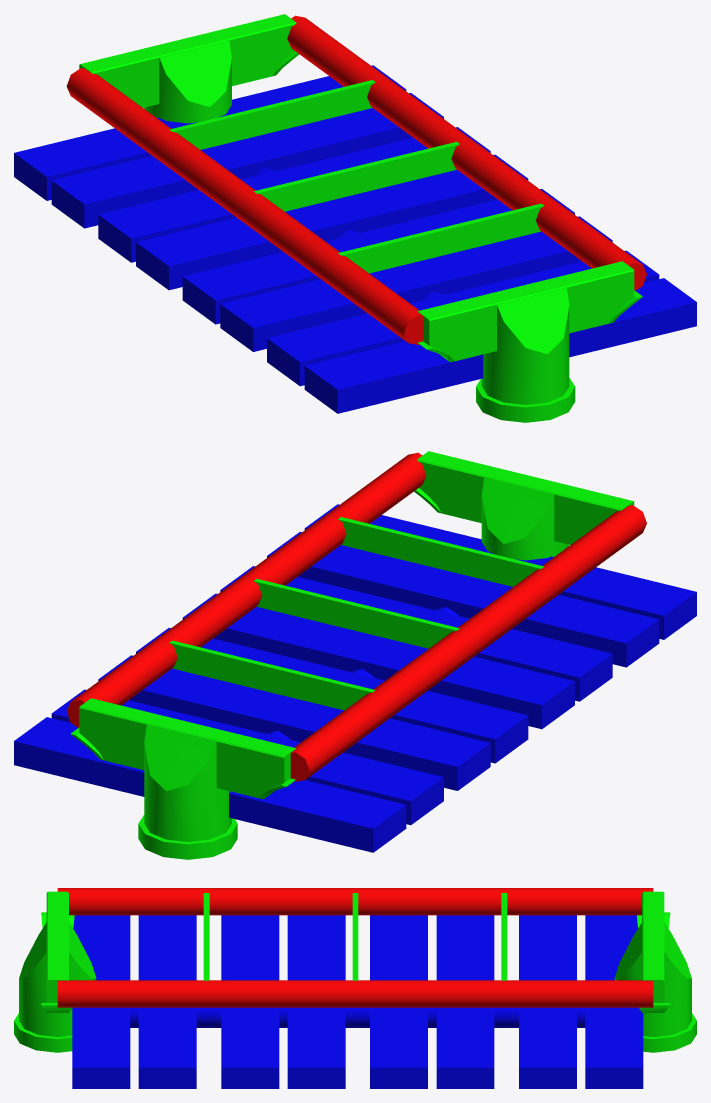
Rendered from rocking_minetrain_track_ref.fbx.
3 views of the same model, one above another, from view 1: azimuth 30°, elevation 25°; view 2: azimuth 150°, elevation 25°; view 3: azimuth 270°, elevation 25° (orthographic). The views are drawn at different scales.
Parts seen in each view (by area): view 1: rocking_minetrain_track_ref; view 2: rocking_minetrain_track_ref; view 3: rocking_minetrain_track_ref.
Boxes of the visible parts, <box> form: rocking_minetrain_track_ref: <box>14,14,696,422</box>; rocking_minetrain_track_ref: <box>14,451,696,859</box>; rocking_minetrain_track_ref: <box>14,888,696,1088</box>.
Size of the model in its own units: 0.6147 by 0.1847 by 1.15.
